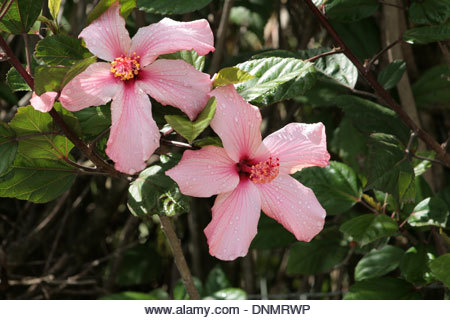Hibiscus: (173, 84, 358, 267), (52, 4, 217, 177)
